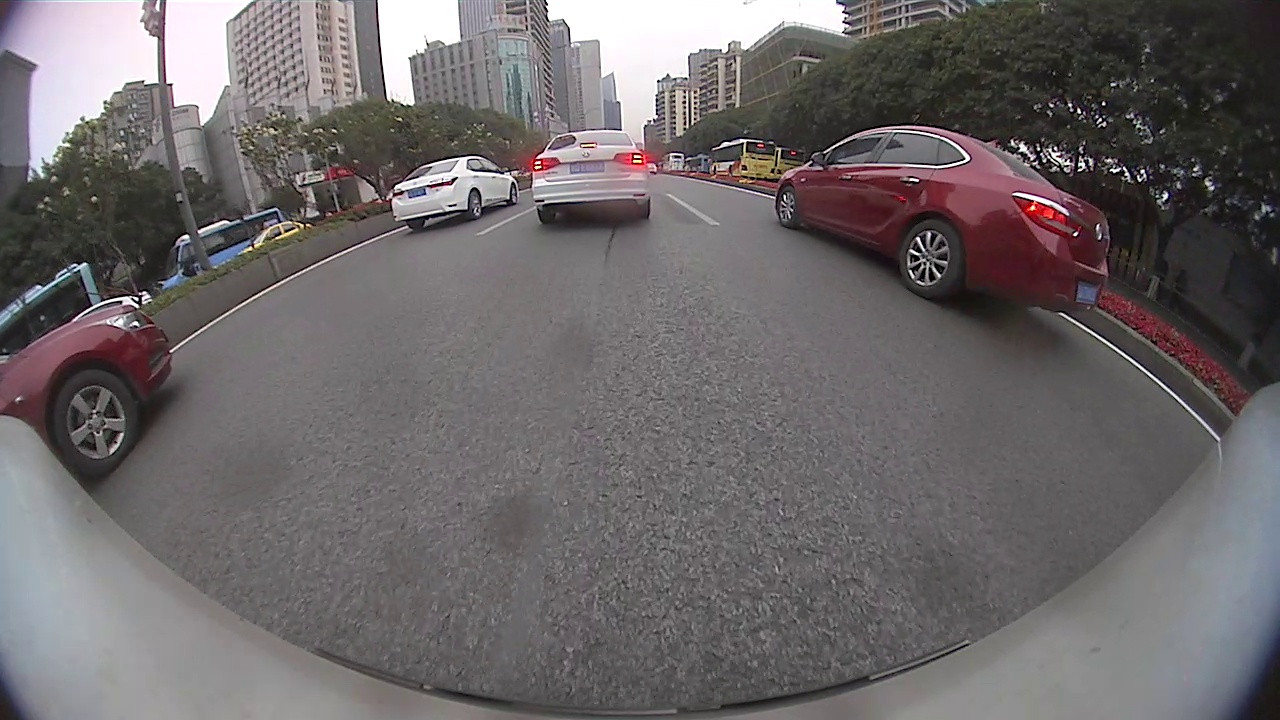bus: (164, 206, 285, 288), (1, 261, 102, 353), (710, 141, 781, 179), (775, 145, 811, 175), (662, 150, 685, 169), (686, 153, 709, 170)
car: (773, 122, 1108, 310), (1, 305, 174, 478), (533, 127, 653, 228), (390, 155, 519, 233), (251, 221, 310, 249)
front: (52, 370, 139, 477), (775, 184, 801, 227), (506, 180, 520, 207)
rear: (898, 222, 962, 297), (469, 188, 483, 220)
